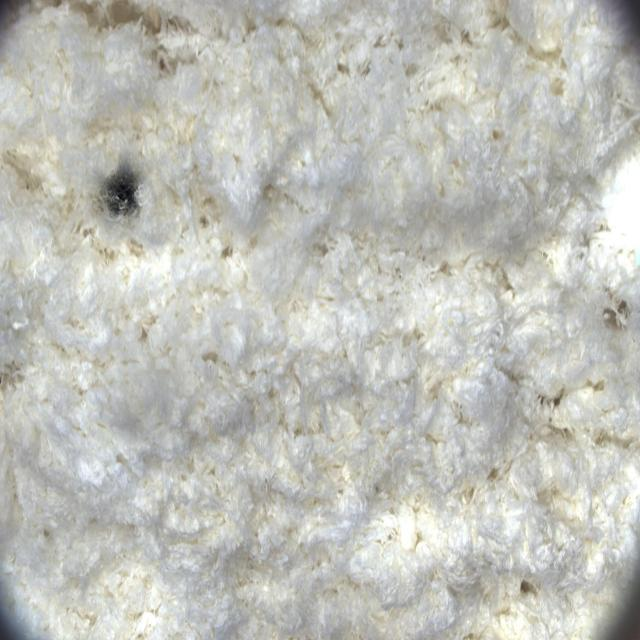dust: (85, 132, 166, 257)
